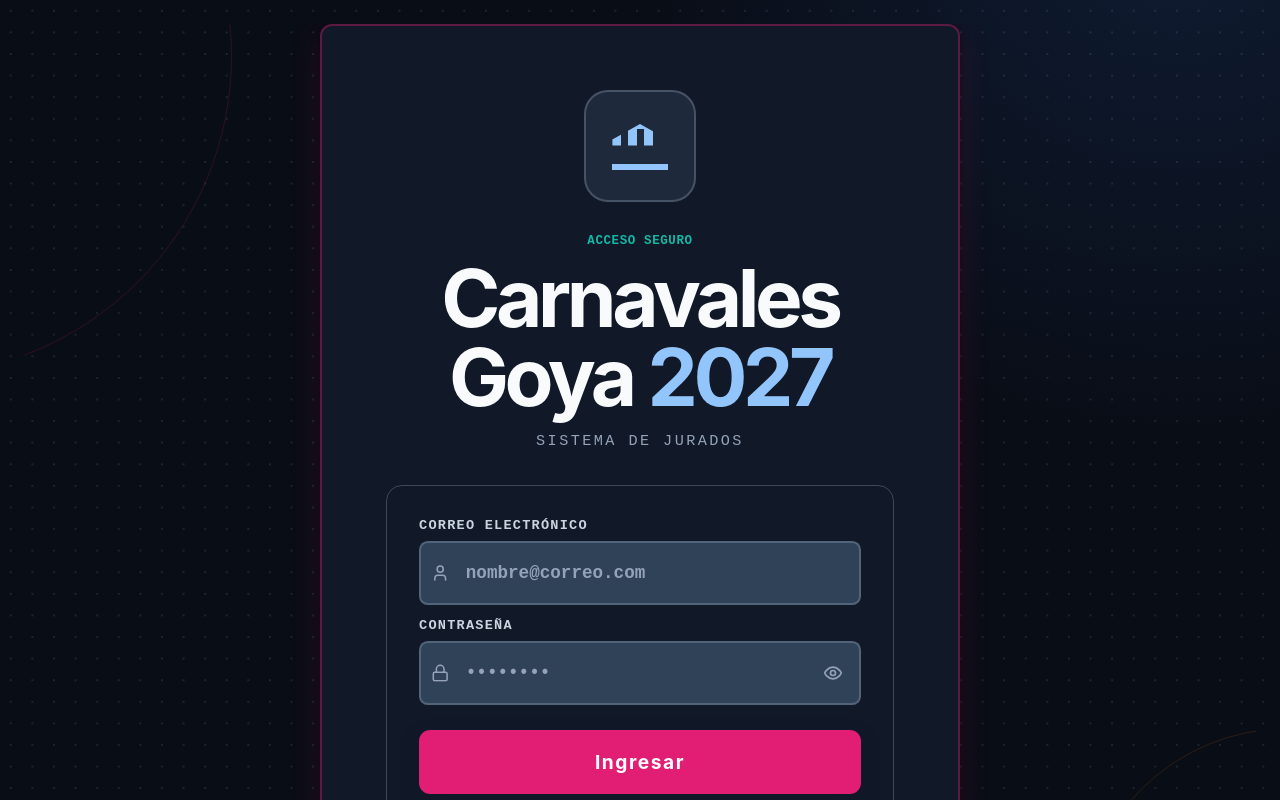
Scenario: LoginPage › no vuelve a habilitar 2FA cuando el inicio de sesión ya requiere segundo factor
Type "admin@example.test" into the field labelled "Correo electrónico". click: [640, 573]
box: x1=419 y1=541 x2=861 y2=605
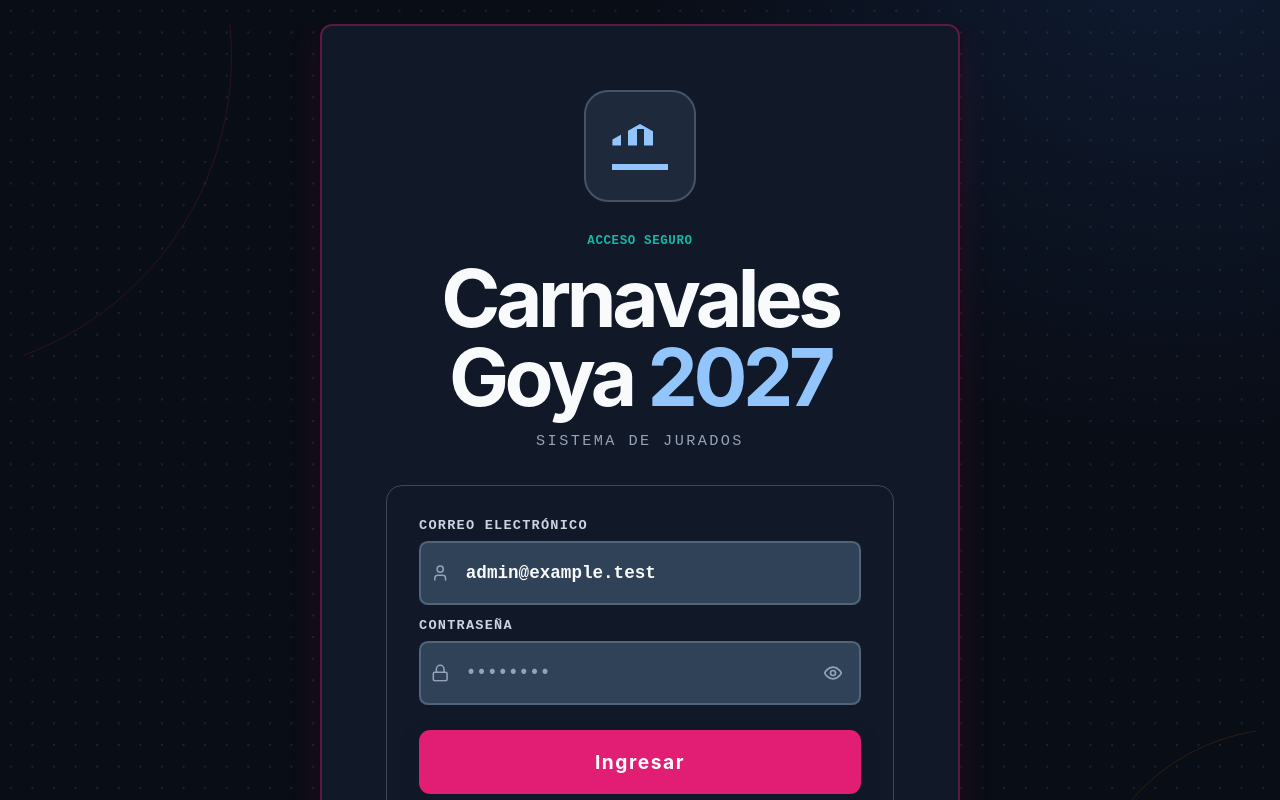
Type "local-password" into the password field labelled "Contraseña". click: [640, 673]
box: x1=419 y1=641 x2=861 y2=705
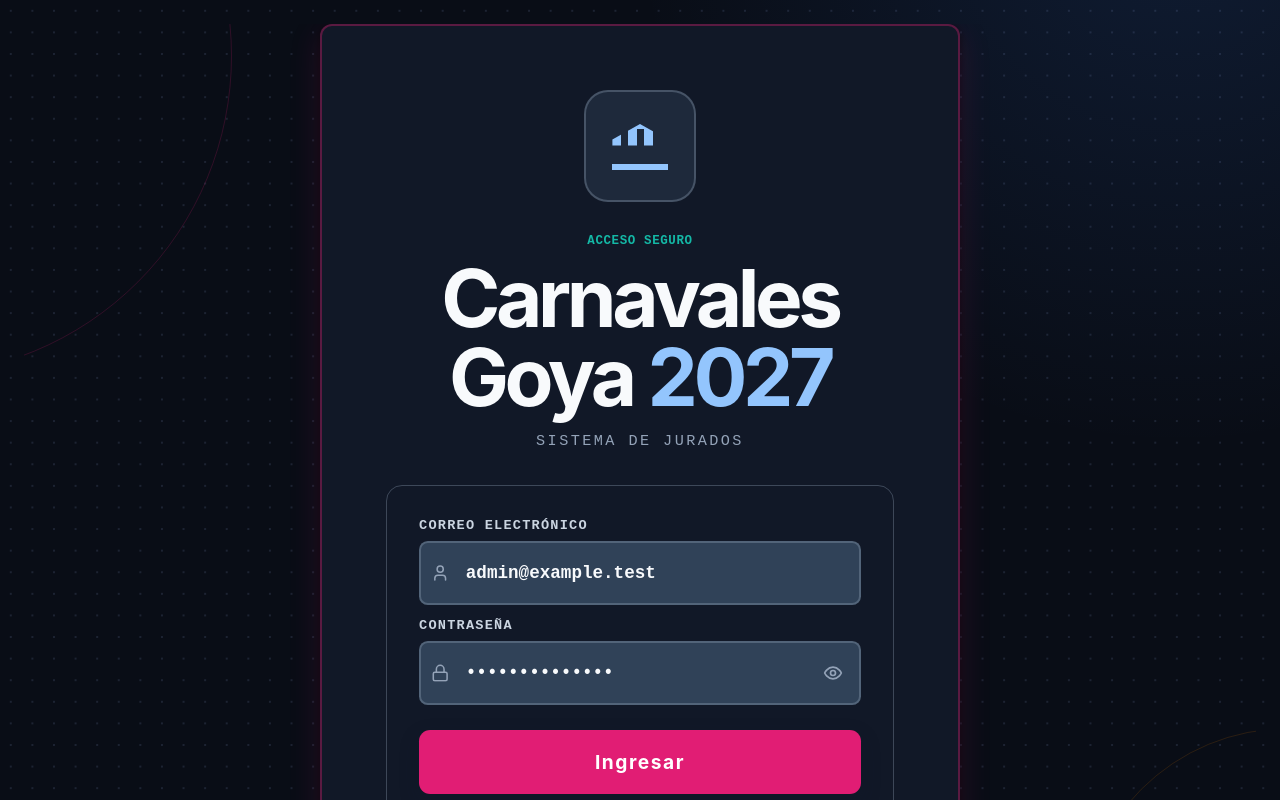
Click the button "Ingresar". click: [640, 762]
box: x1=419 y1=730 x2=861 y2=794
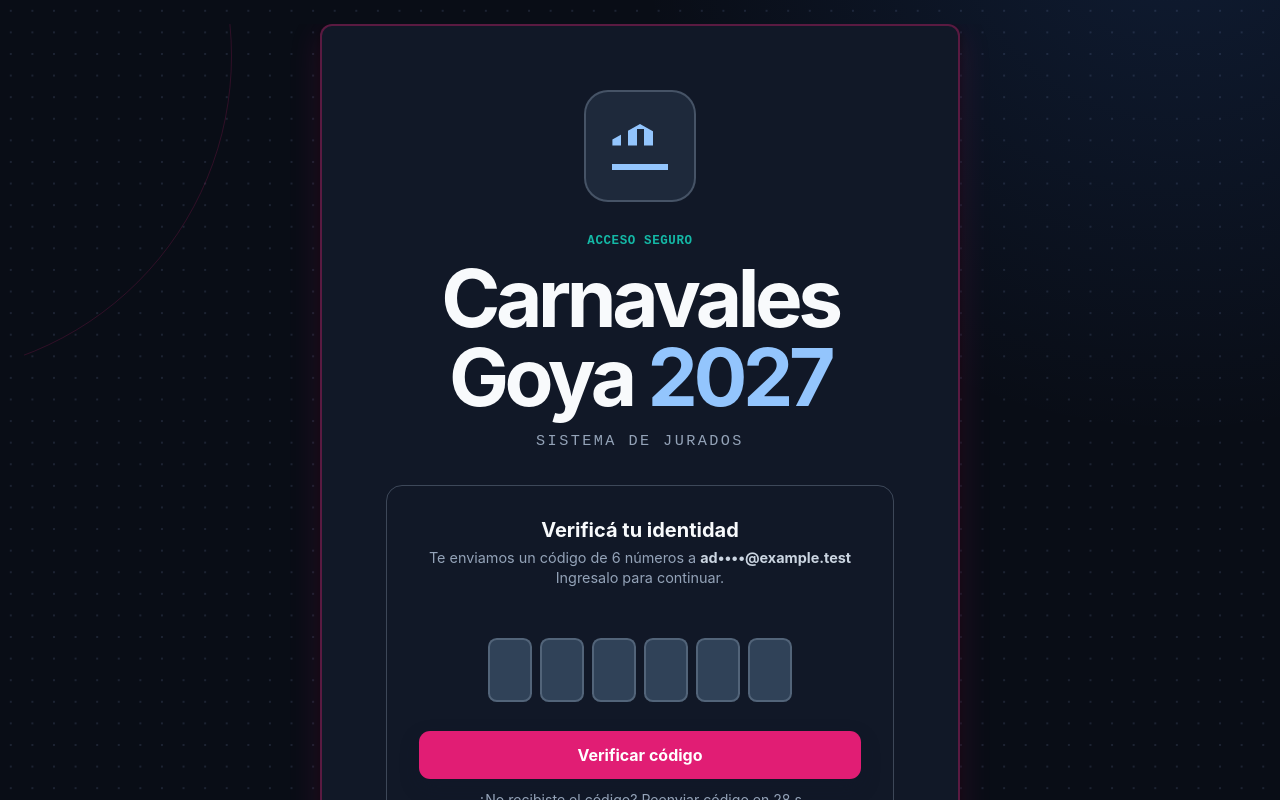
Check: the element named "Código de verificación" is shown, box x1=488 y1=638 x2=792 y2=702
